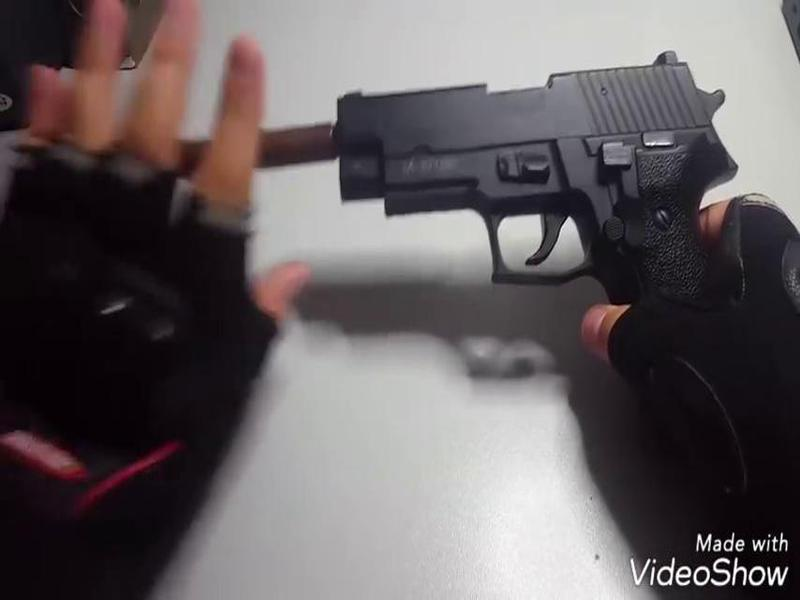Pistola: (330, 39, 757, 321)
